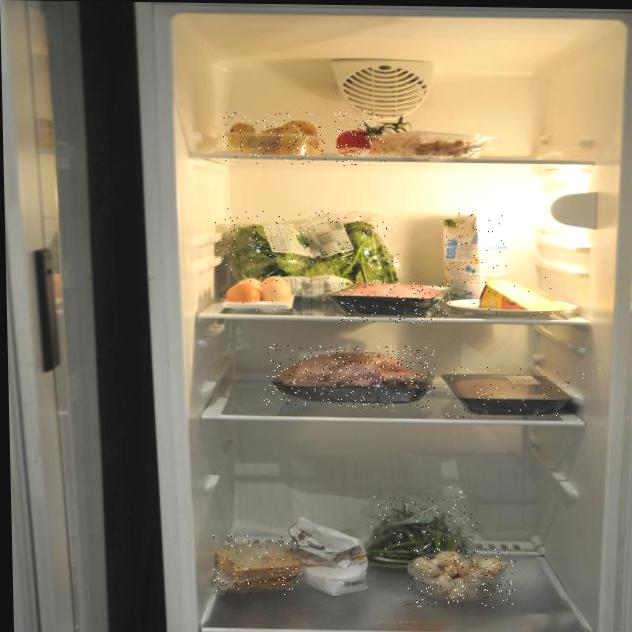bread: (211, 535, 303, 595)
cheese: (467, 274, 565, 317)
chicken: (262, 344, 436, 408)
eggs: (217, 269, 298, 316)
green beans: (370, 496, 479, 557)
meat: (444, 365, 586, 421), (340, 281, 452, 324)
milk: (442, 212, 508, 292)
mushroom: (406, 548, 517, 608)
potatoes: (220, 111, 326, 165)
spinach: (214, 208, 399, 268)
tomatoes: (333, 109, 386, 168)
